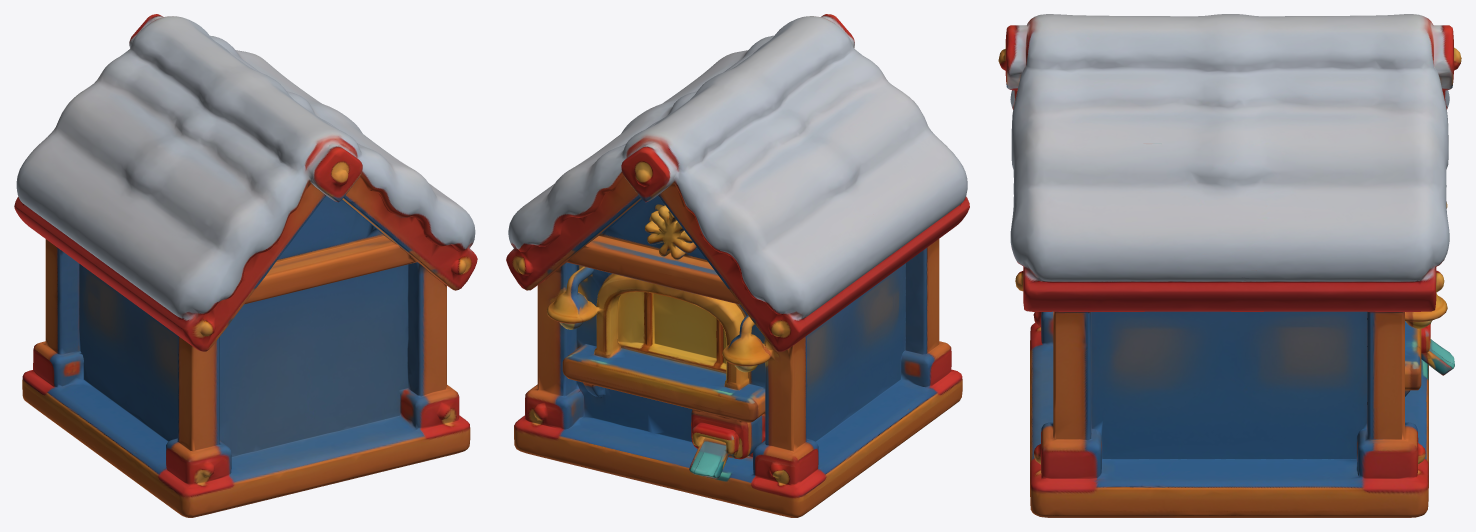
The model's file is ski_resort_ticket_booth.glb.
The picture shows the model from 3 angles, left to right: view 1: azimuth 30°, elevation 25°; view 2: azimuth 150°, elevation 25°; view 3: azimuth 270°, elevation 25°; orthographic projection. The views are drawn at different scales.
Visible parts, largest first — view 1: ski_resort_ticket_booth; view 2: ski_resort_ticket_booth; view 3: ski_resort_ticket_booth.
Part boxes in pixels (box(x1,y1,x2,y2)): ski_resort_ticket_booth: box(14, 14, 477, 517); ski_resort_ticket_booth: box(506, 14, 969, 517); ski_resort_ticket_booth: box(998, 14, 1461, 517).
Size of the model in its own units: 1.44 by 1.61 by 1.61.
Materials: 1 (1 with a texture image).
